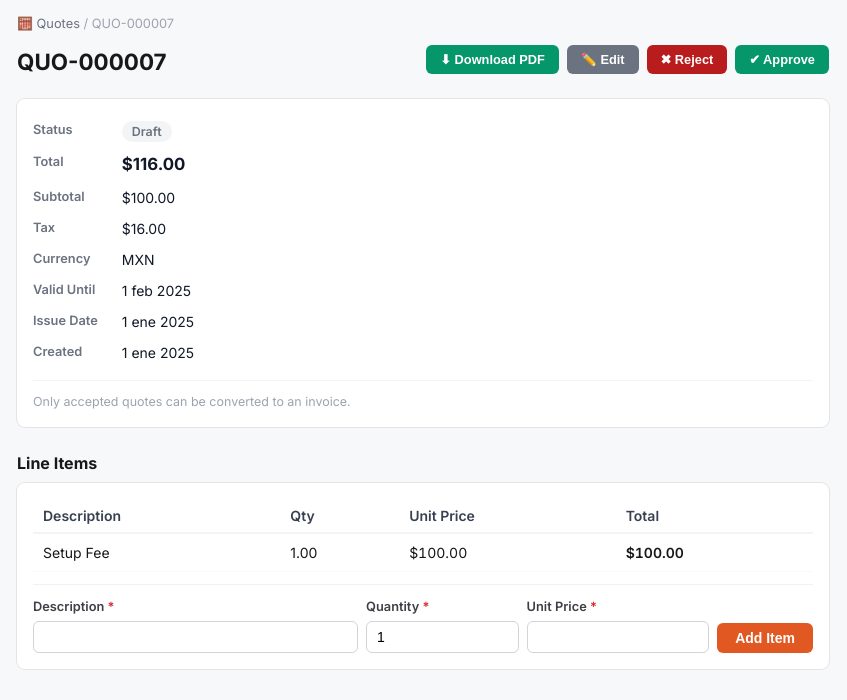
Test case: QuoteDetail page › Approve sets the badge to accepted
This screenshot has width=847, height=700.
Expected: the heading "QUO-000007" is shown, [17, 45, 167, 79]
Click the button "✔ Approve": (782, 60) [735, 45, 829, 74]
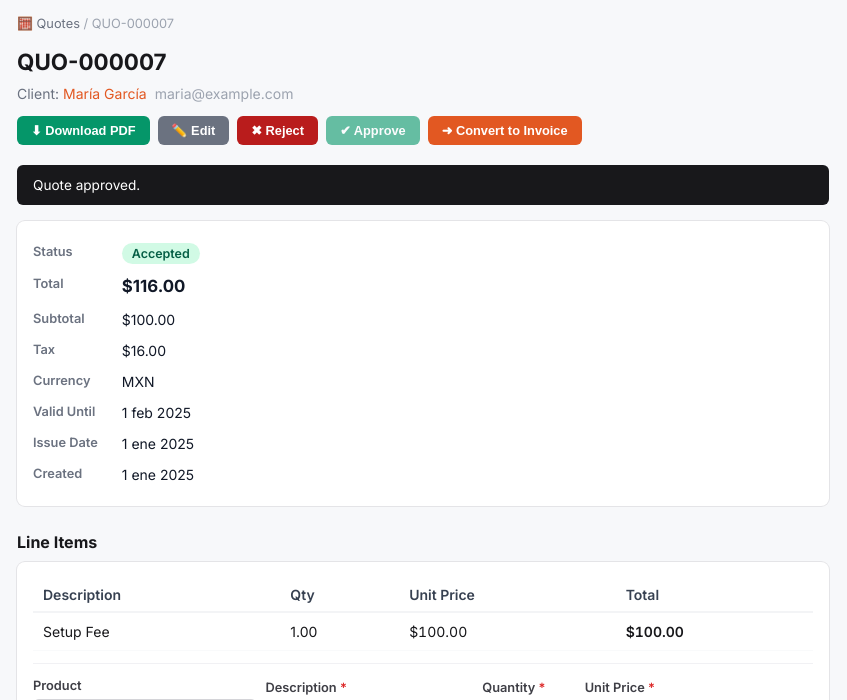
Expected: the text "accepted" is shown, [122, 243, 200, 264]
